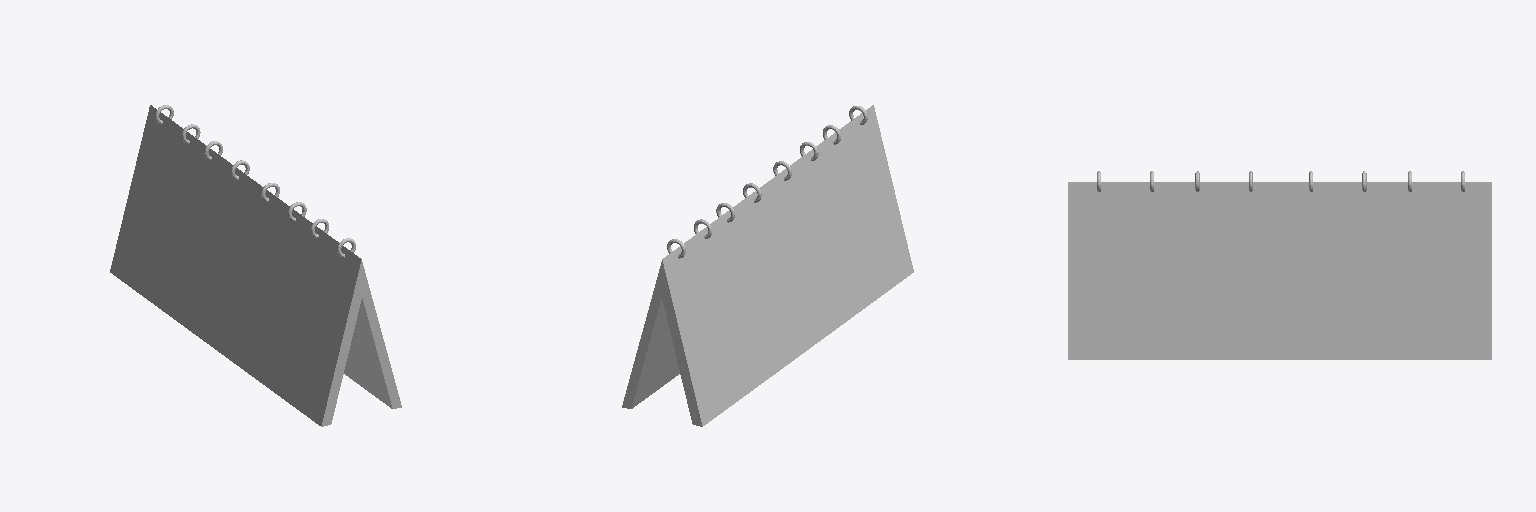
Rendered from Score_Board_Joel.obj.
The picture shows the model from 3 angles: view 1: azimuth 30°, elevation 25°; view 2: azimuth 150°, elevation 25°; view 3: azimuth 270°, elevation 25°; orthographic projection.
Visible parts, largest first — view 1: Cube, Plane.002_Plane.003, Plane.003_Plane.004; view 2: Cube, Plane.003_Plane.004, Plane.002_Plane.003; view 3: Cube, Plane.001_Plane.002, Plane.
Boxes of the visible parts, x1=… form: Cube: x1=110, y1=105, x2=401, y2=426; Plane.002_Plane.003: x1=229, y1=194, x2=349, y2=397; Plane.003_Plane.004: x1=123, y1=117, x2=243, y2=318; Cube: x1=622, y1=105, x2=913, y2=426; Plane.003_Plane.004: x1=672, y1=195, x2=792, y2=397; Plane.002_Plane.003: x1=779, y1=118, x2=899, y2=320; Cube: x1=1068, y1=182, x2=1491, y2=359; Plane.001_Plane.002: x1=1300, y1=187, x2=1474, y2=336; Plane: x1=1088, y1=187, x2=1261, y2=336.
Size of the model in its own units: 0.6157 by 1.22 by 2.79.